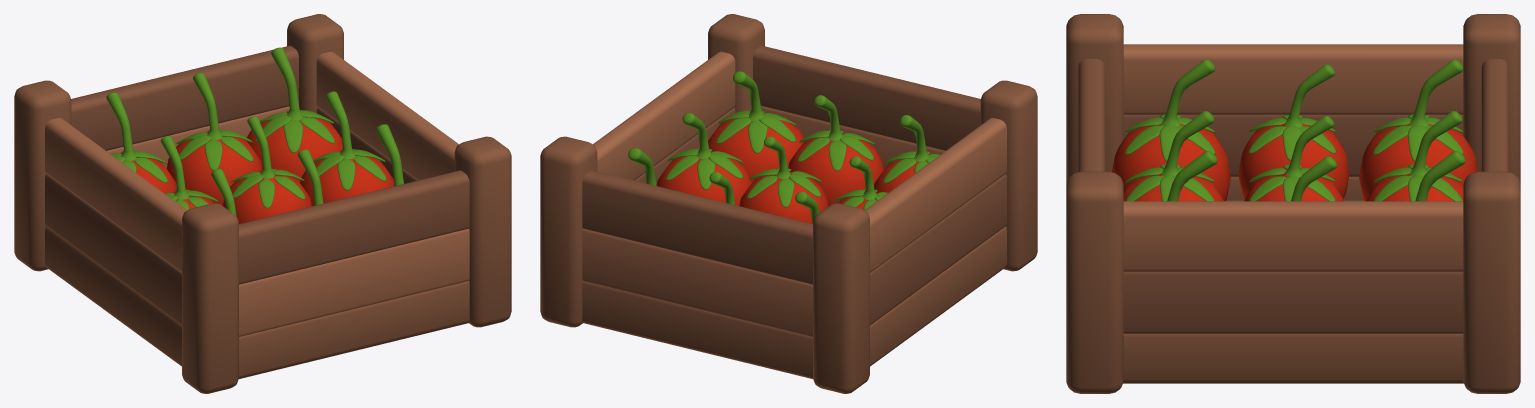
The model's file is prop16.fbx.
The picture shows the model from 3 angles, left to right: view 1: azimuth 30°, elevation 25°; view 2: azimuth 150°, elevation 25°; view 3: azimuth 270°, elevation 25°; orthographic projection. The views are drawn at different scales.
Parts seen in each view (by area): view 1: Cube.112; view 2: Cube.112; view 3: Cube.112.
Part boxes in pixels (x1,y1,x2,y2): Cube.112: [14, 14, 511, 393]; Cube.112: [540, 14, 1037, 393]; Cube.112: [1066, 14, 1520, 393].
Bounding box in the file's own units: 0.8745 × 0.9243 × 0.4643.
